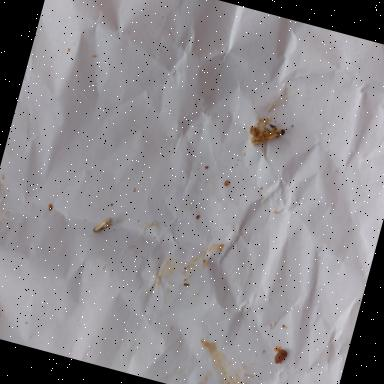pbw: (92, 215, 115, 237)
